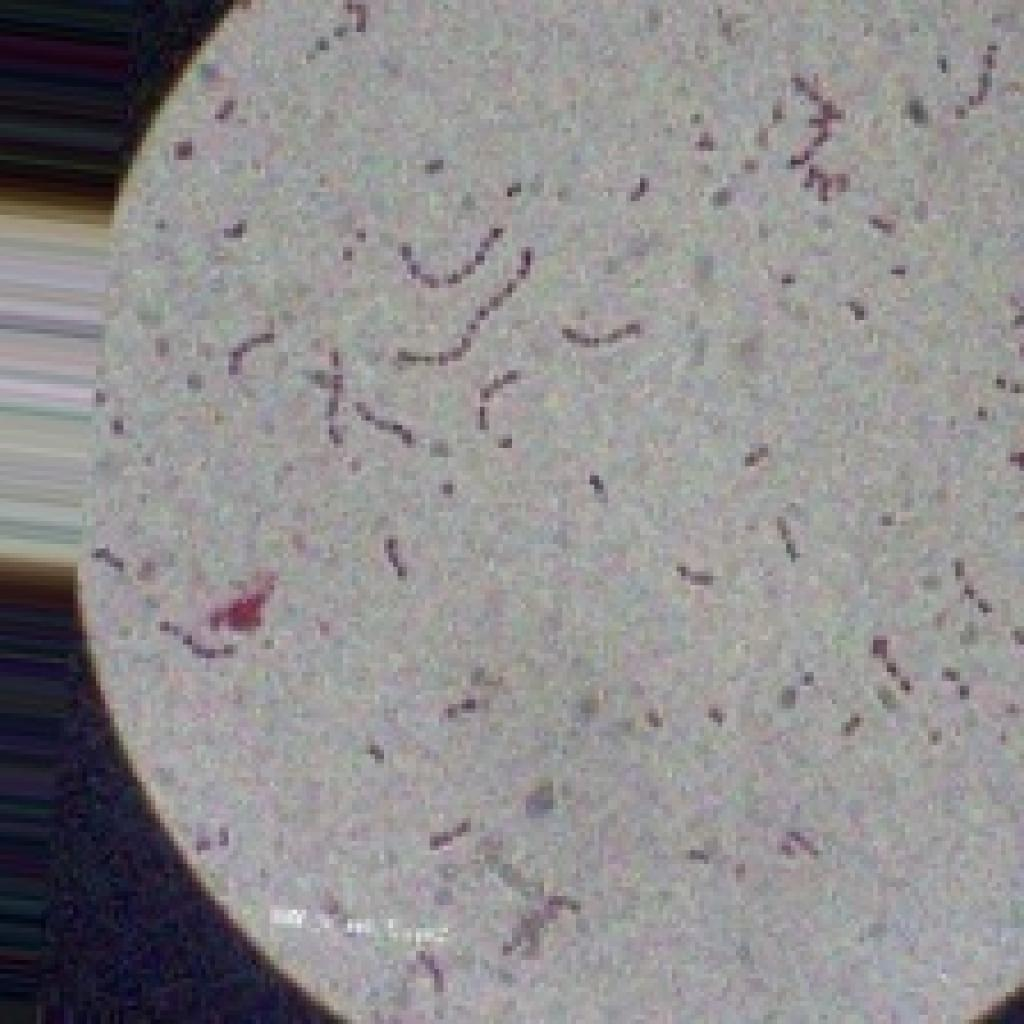Rodbacteria: (63, 0, 1019, 1019)
